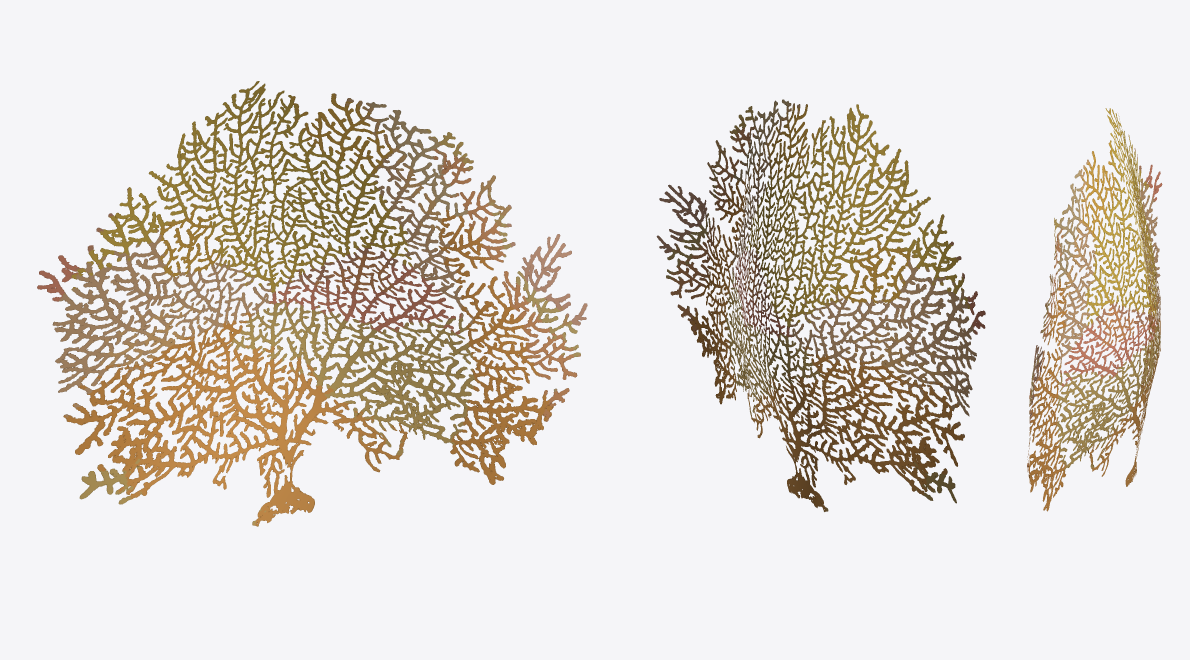
File: 22-SeaFan.fbx
3 views of the same model, side by side, from view 1: azimuth 30°, elevation 25°; view 2: azimuth 150°, elevation 25°; view 3: azimuth 270°, elevation 25° (orthographic). The views are drawn at different scales.
Parts seen in each view (by area): view 1: 22-SeaFan_LOD00; view 2: 22-SeaFan_LOD00; view 3: 22-SeaFan_LOD00.
Part boxes in pixels (x1=…): 22-SeaFan_LOD00: x1=37, y1=81, x2=587, y2=526; 22-SeaFan_LOD00: x1=656, y1=99, x2=985, y2=511; 22-SeaFan_LOD00: x1=1027, y1=108, x2=1162, y2=511.
Size of the model in its own units: 73.57 by 83.75 by 25.22.
